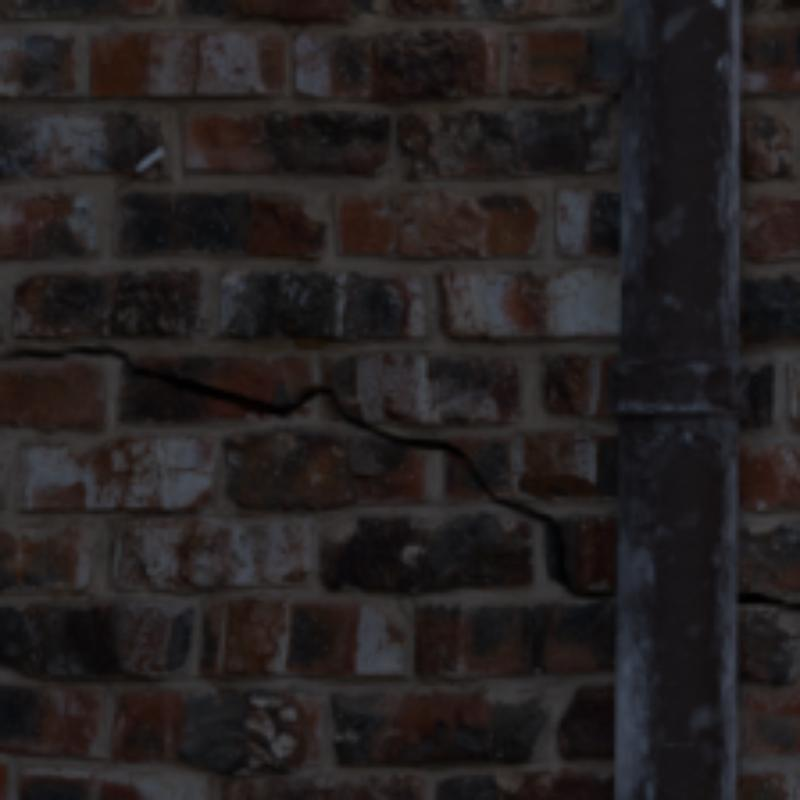crack: (0, 343, 614, 596), (189, 29, 207, 96), (736, 593, 796, 611)
